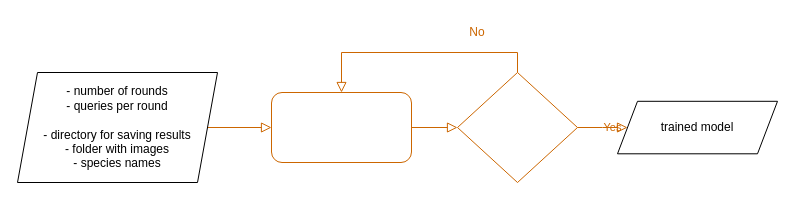
The diagram is 795 pixels wide and 200 high, and some of its shapes have lost their labels. Here are the shapes that lost their labels. From the top down, the centre of each, then its label:
At point 341,127: "Label images queried in the current round".
At point 517,127: "Is it the last round?".
